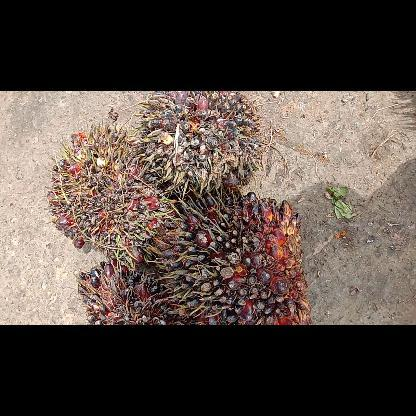TBS abnormal: (156, 192, 312, 324), (48, 127, 166, 251), (139, 90, 263, 192), (78, 256, 166, 324)
